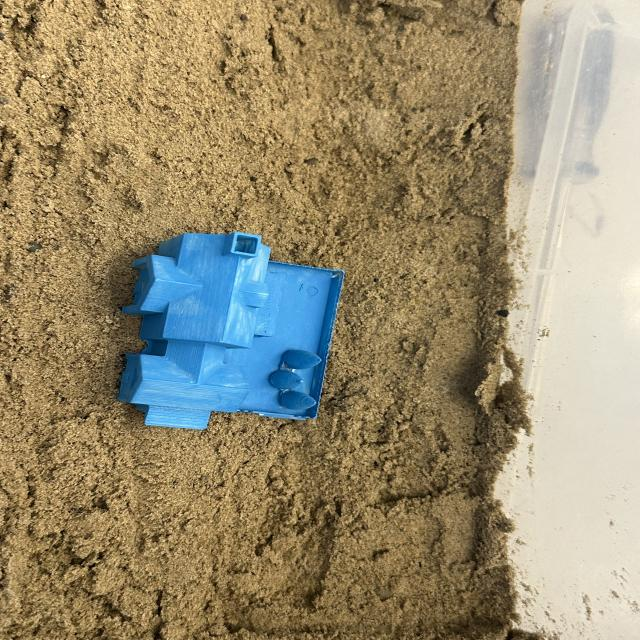house: (119, 231, 347, 432)
